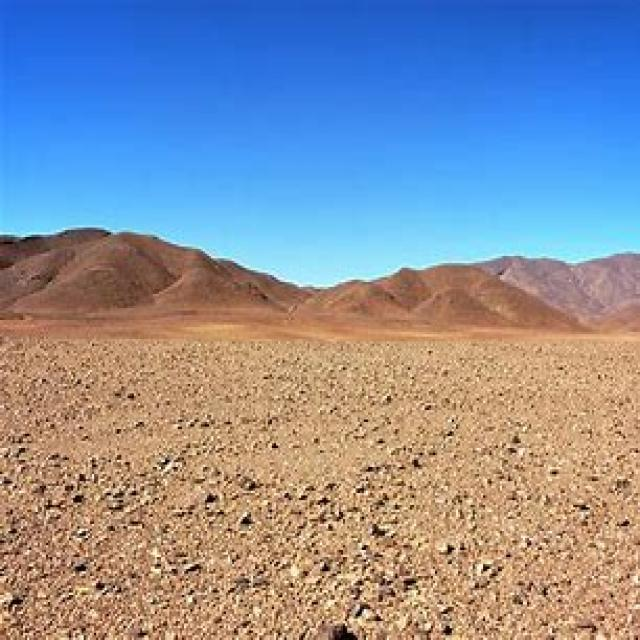Alluvial Soil: (0, 317, 603, 610)
